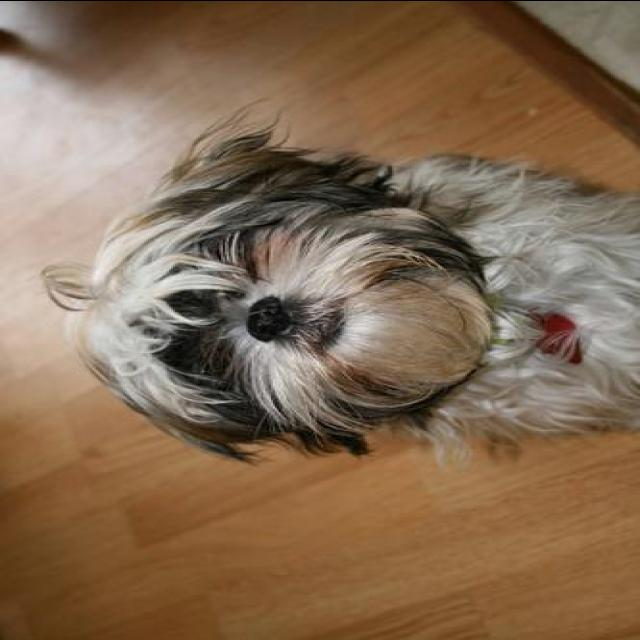shih_tzu: (36, 102, 638, 470)
